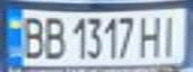1: (66, 15, 87, 60), (103, 13, 121, 60)
3: (84, 15, 103, 60)
7: (115, 13, 139, 60)
B: (15, 12, 48, 61), (39, 14, 69, 61)
H: (136, 11, 166, 58)
I: (157, 11, 184, 57)
